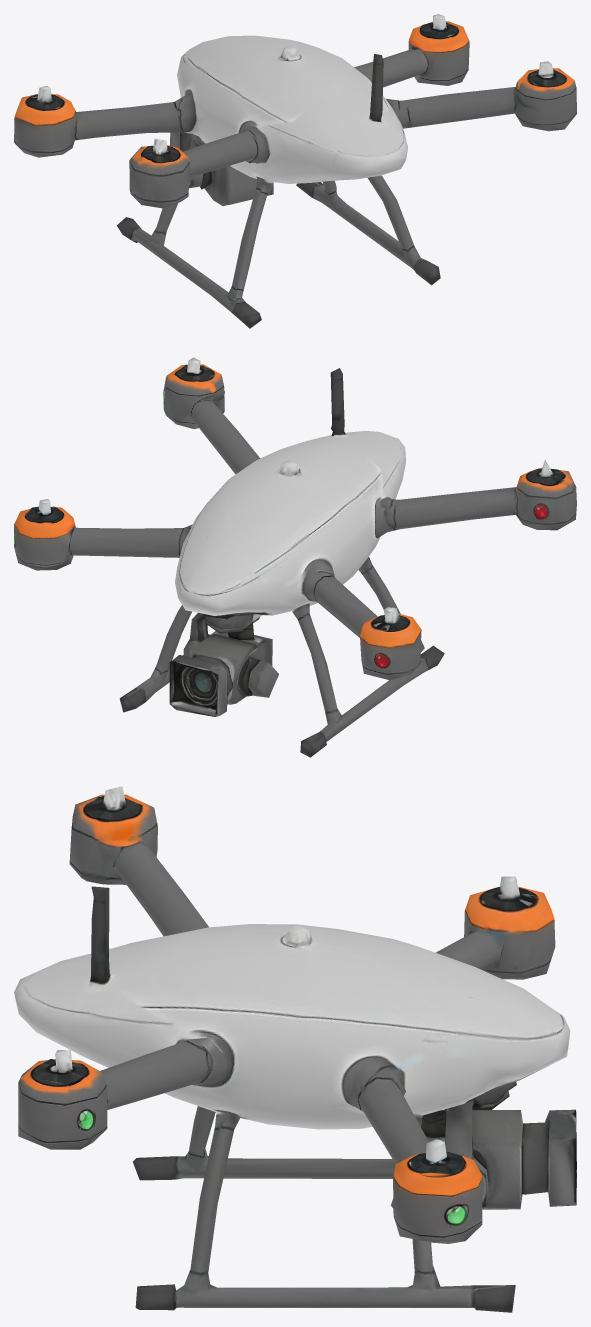
Rendered from traffic-news.glb.
3 renders of one model, top to bottom at view 1: azimuth 30°, elevation 25°; view 2: azimuth 150°, elevation 25°; view 3: azimuth 270°, elevation 25°, orthographic. The views are drawn at different scales.
Visible parts, largest first — view 1: traffic-news; view 2: traffic-news; view 3: traffic-news.
Boxes of the visible parts, x1,y1,x2,y2 form: traffic-news: (14, 14, 576, 328); traffic-news: (14, 357, 576, 757); traffic-news: (14, 786, 576, 1312).
Size of the model in its own units: 0.6 by 0.3325 by 0.4518.
Materials: 1 (1 with a texture image).
